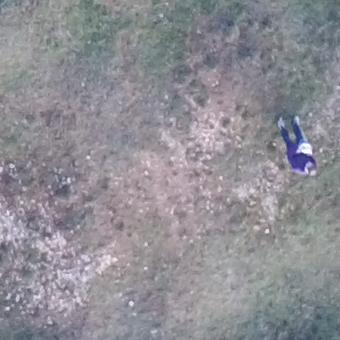human: (276, 113, 321, 178)
